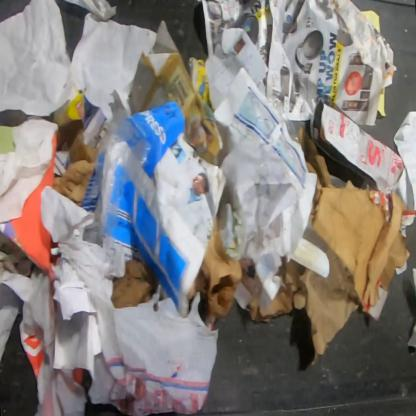cardboard: (297, 124, 415, 324), (242, 227, 360, 365), (128, 19, 226, 166), (192, 212, 244, 319), (52, 90, 96, 207), (111, 258, 159, 308)
soft_plastic: (87, 283, 221, 415), (93, 105, 152, 279), (21, 265, 89, 415), (264, 93, 301, 144)
